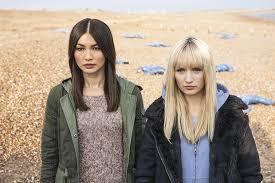Human Face: (171, 53, 211, 98), (71, 29, 108, 74)
